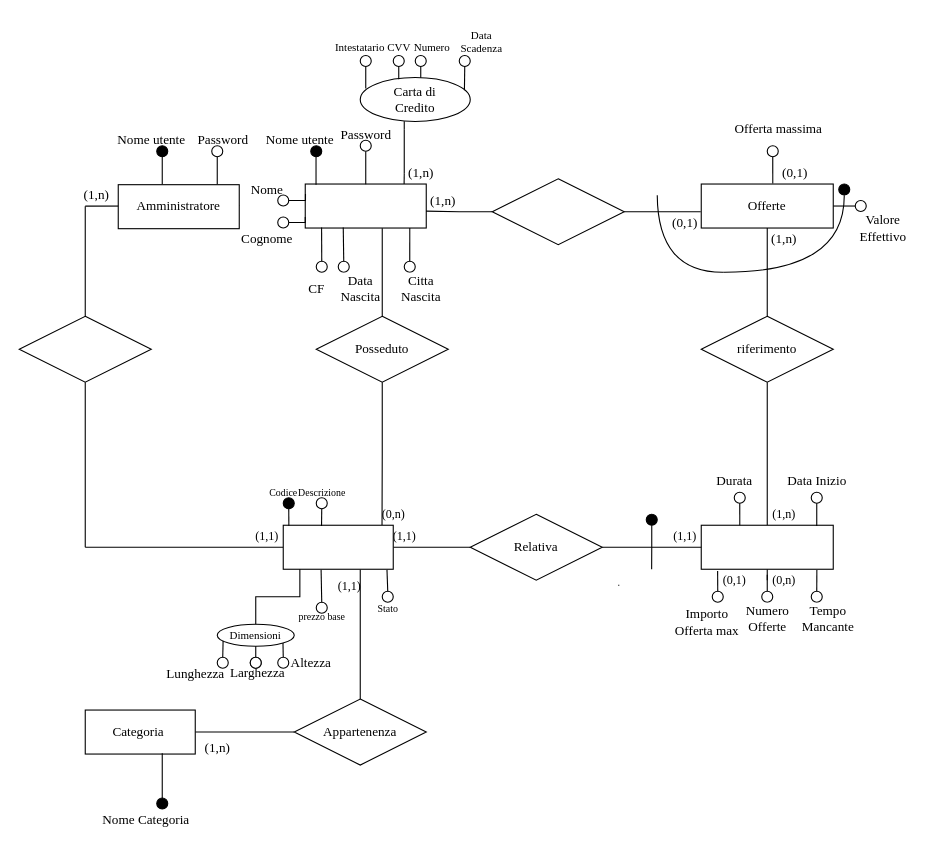
Image size: 941x855. Some labels were removed from this diagram. The shapes that lost their labels are listed below. From the top down, each one's centre as x and y in pixels, then its label:
At point (365, 205): "Cliente".
At point (557, 211): "Formulare".
At point (84, 348): "Creazione".
At point (337, 546): "Oggetto".
At point (766, 546): "Asta".
